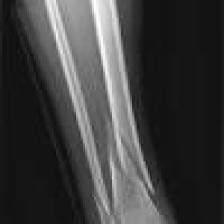spiral-fracture: (17, 0, 176, 224)
